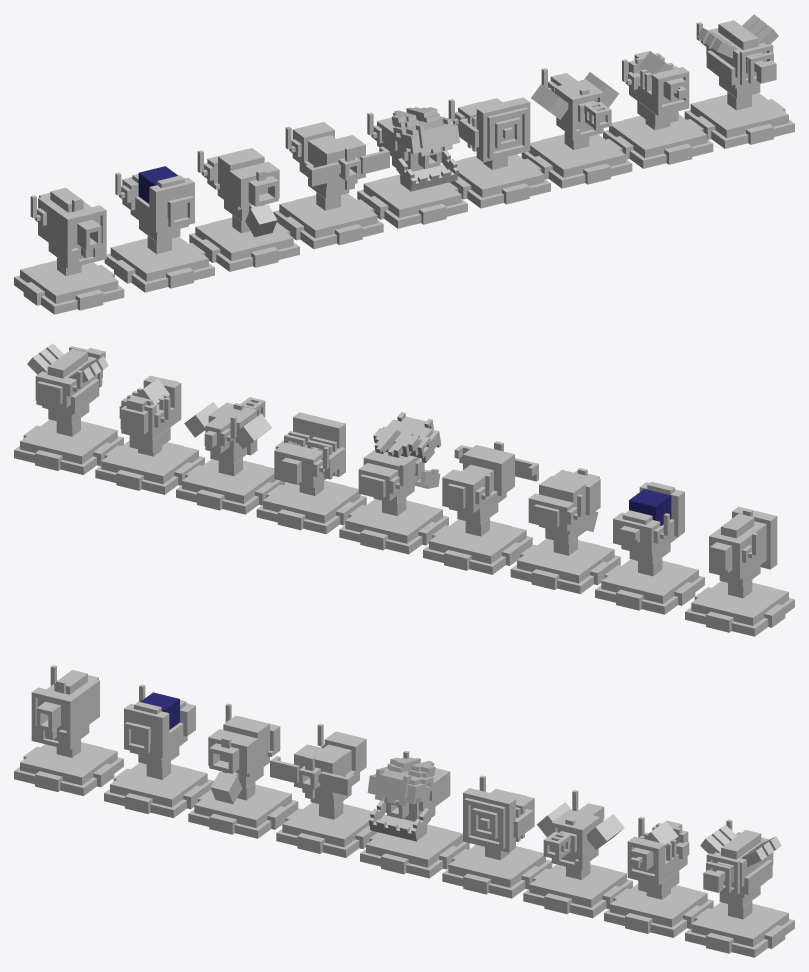
Rendered from turrets_project_final.fbx.
3 renders of one model, top to bottom at view 1: azimuth 30°, elevation 25°; view 2: azimuth 150°, elevation 25°; view 3: azimuth 330°, elevation 25°, orthographic.
Visible parts, largest first — view 1: DragonT, CrossbowT, TeslaT, RocketT, EnderT, ToxicT, FireT, PlazmaGanT, LaserT; view 2: DragonT, CrossbowT, TeslaT, EnderT, RocketT, ToxicT, PlazmaGanT, FireT, LaserT; view 3: TeslaT, DragonT, CrossbowT, RocketT, EnderT, ToxicT, FireT, PlazmaGanT, LaserT.
Part boxes in pixels (bbox=[...]): DragonT: bbox=[357, 107, 467, 228]; CrossbowT: bbox=[273, 122, 389, 248]; TeslaT: bbox=[684, 14, 794, 148]; RocketT: bbox=[14, 187, 124, 314]; EnderT: bbox=[104, 166, 214, 292]; ToxicT: bbox=[189, 148, 299, 271]; FireT: bbox=[521, 68, 632, 188]; PlazmaGanT: bbox=[448, 97, 550, 208]; LaserT: bbox=[603, 51, 713, 168]; DragonT: bbox=[339, 412, 448, 554]; CrossbowT: bbox=[423, 441, 538, 574]; TeslaT: bbox=[14, 343, 123, 474]; EnderT: bbox=[595, 482, 704, 614]; RocketT: bbox=[685, 506, 794, 636]; ToxicT: bbox=[510, 468, 620, 593]; PlazmaGanT: bbox=[256, 412, 366, 534]; FireT: bbox=[176, 397, 285, 514]; LaserT: bbox=[95, 375, 204, 494]; TeslaT: bbox=[685, 819, 794, 957]; DragonT: bbox=[360, 750, 469, 878]; CrossbowT: bbox=[270, 724, 377, 857]; RocketT: bbox=[14, 665, 123, 795]; EnderT: bbox=[104, 684, 213, 817]; ToxicT: bbox=[188, 703, 298, 838]; FireT: bbox=[523, 790, 632, 918]; PlazmaGanT: bbox=[442, 775, 552, 898]; LaserT: bbox=[604, 816, 713, 937].
Bounding box in the file's own units: 1929 × 244 × 230.
